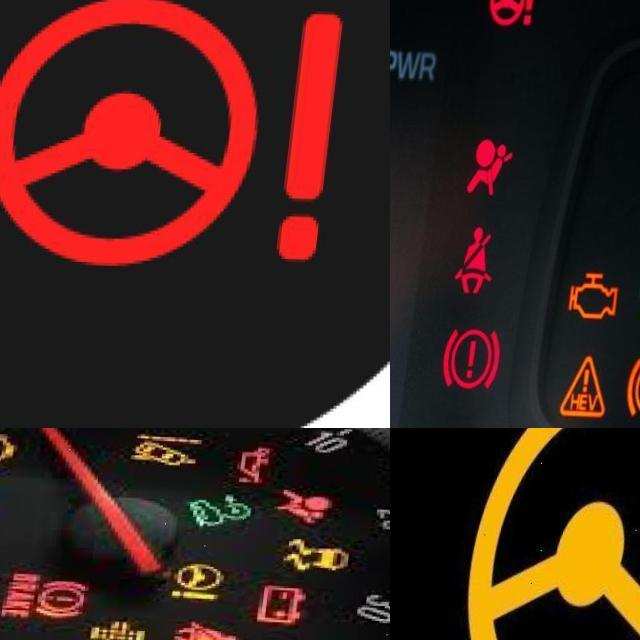Electronic Power Steering: (0, 0, 353, 267), (484, 0, 538, 22)
Electronic Power Steering Warning: (459, 428, 640, 640), (177, 558, 233, 599)
Seat Belt: (462, 225, 502, 291), (183, 616, 250, 640)
